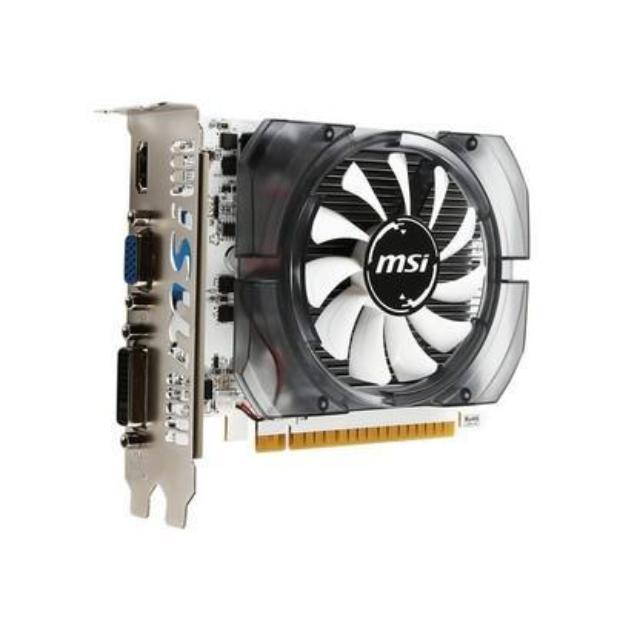GPU: (120, 96, 540, 502)
